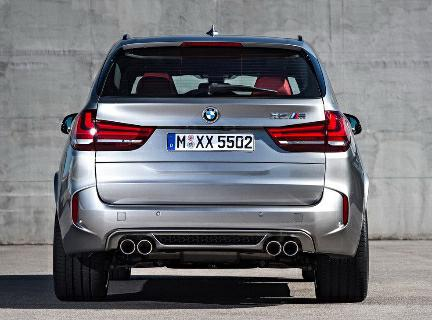宝马-X5M: (43, 26, 378, 304)
